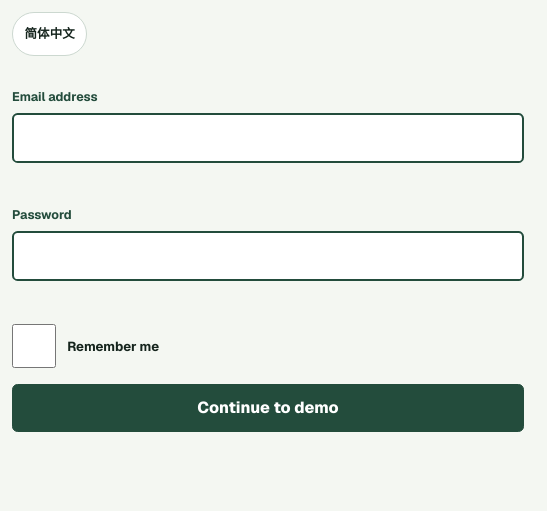
Test: LoginForm › reports the localized no-authentication outcome and does not persist the form
In the field labelled "Email address": (268, 138) left=12, top=113, right=524, bottom=163, type "person@example.com"
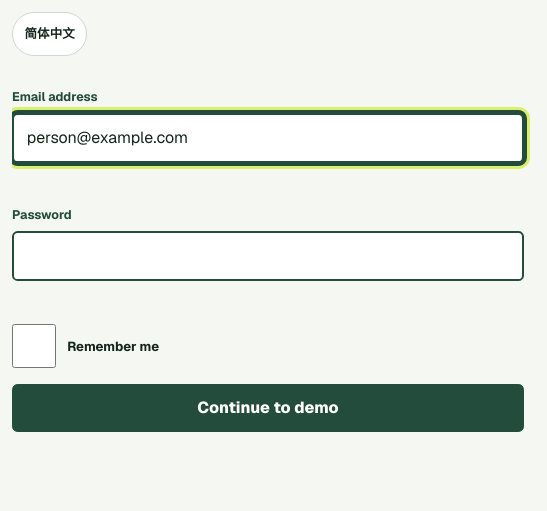
In the password field labelled "Password": (268, 256) left=12, top=231, right=524, bottom=281, type "local-only"
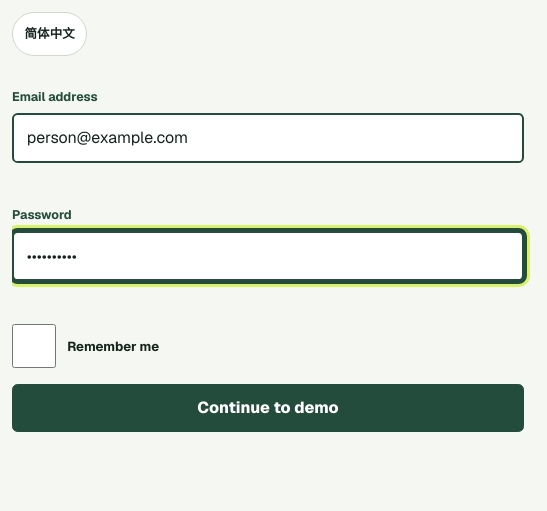
Click the checkbox labelled "Remember me": (34, 346) left=12, top=324, right=56, bottom=368
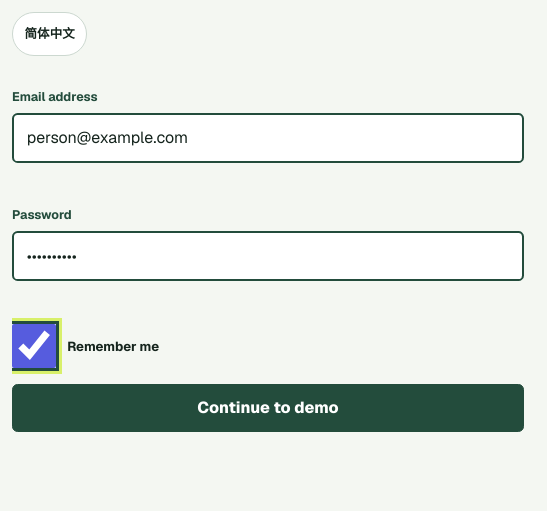
Click the button "Continue to demo": (268, 408) left=12, top=384, right=524, bottom=432
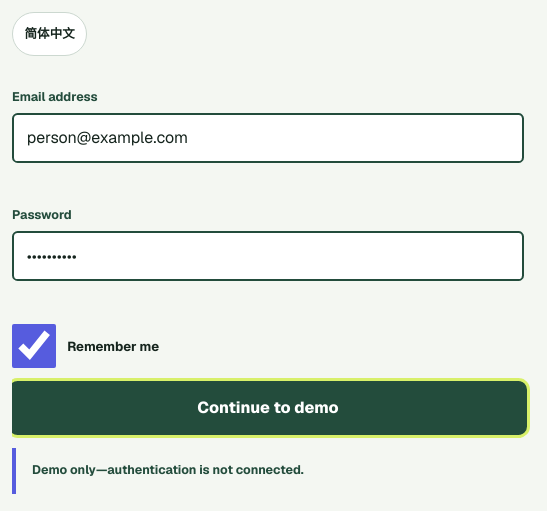
Check: the checkbox labelled "Remember me" is checked, box left=12, top=324, right=56, bottom=368
Check: the message reads "Demo only—authentication is not connected.", box left=32, top=461, right=304, bottom=478
